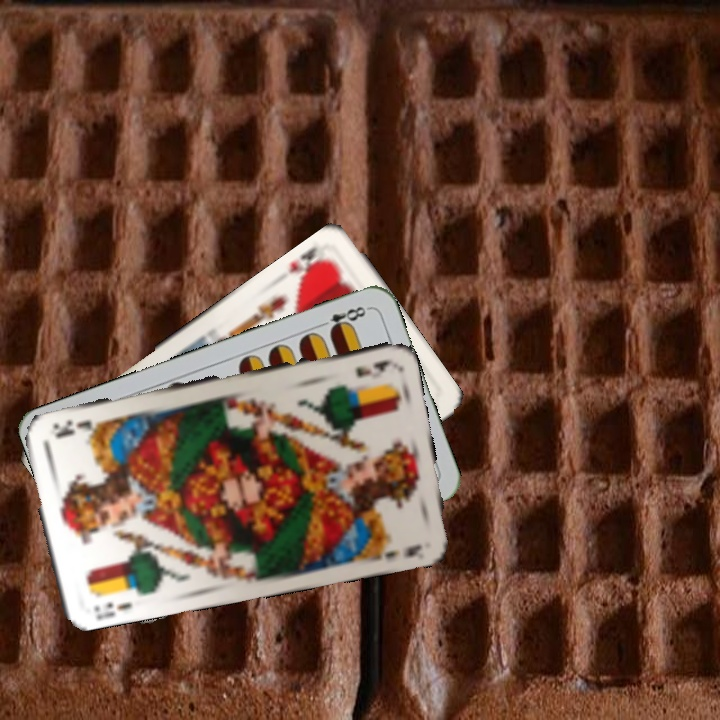E8: (314, 302, 372, 336)
EK: (89, 597, 134, 620), (351, 355, 391, 380)
HK: (284, 242, 335, 287)
